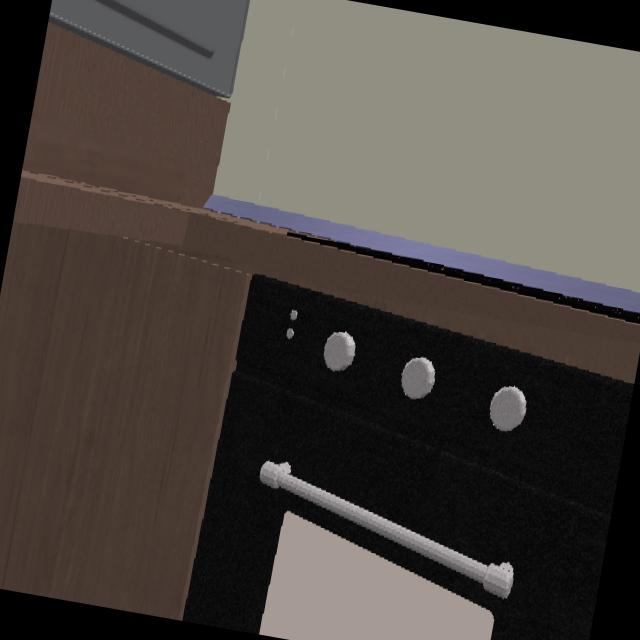oven: (180, 277, 633, 640)
